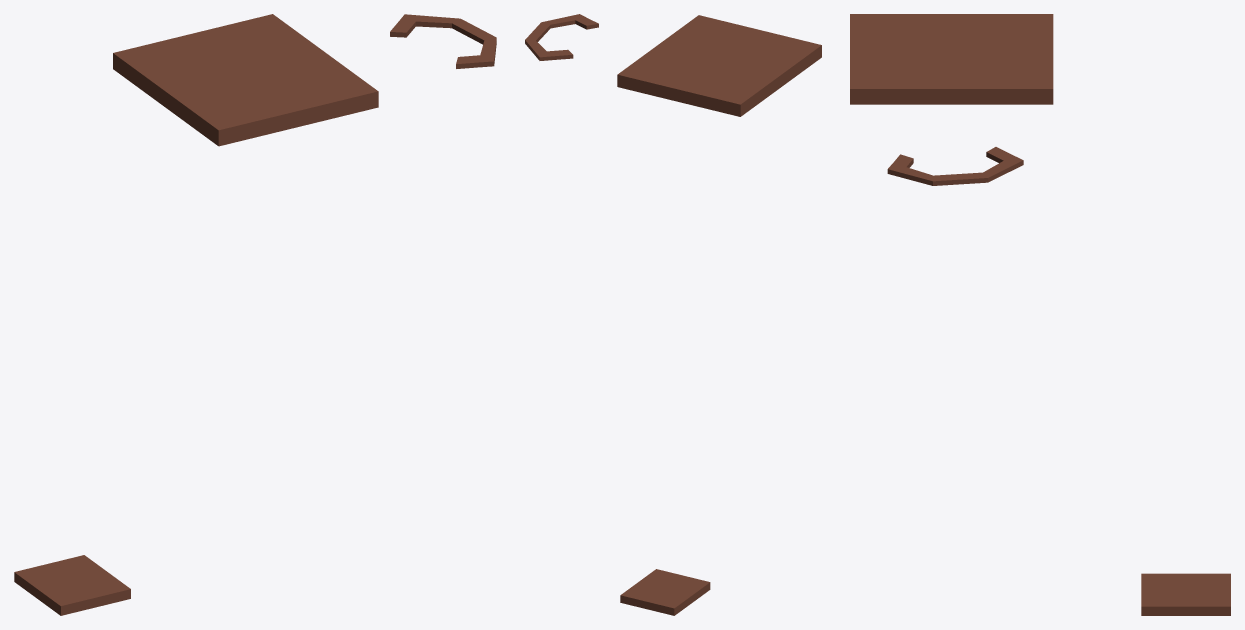
File: NIVEL2_LUCES_platsVarias.fbx
3 renders of one model, left to right at view 1: azimuth 30°, elevation 25°; view 2: azimuth 150°, elevation 25°; view 3: azimuth 270°, elevation 25°, orthographic. The views are drawn at different scales.
Parts seen in each view (by area): view 1: Cube.008; view 2: Cube.008; view 3: Cube.008.
Boxes of the visible parts, left/top/right/bottom form: Cube.008: left=14, top=14, right=496, bottom=615; Cube.008: left=525, top=14, right=821, bottom=615; Cube.008: left=850, top=14, right=1230, bottom=615.
Bounding box in the file's own units: 973 × 1687 × 1018.
